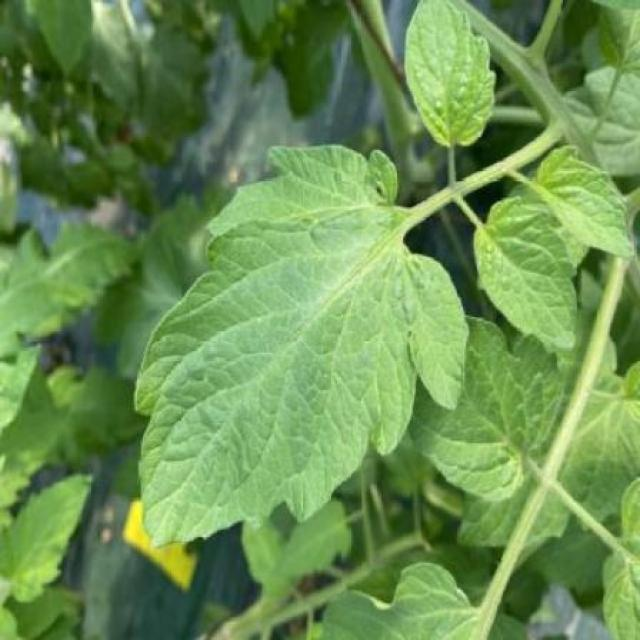Healthy: (134, 145, 469, 549), (474, 195, 577, 348), (405, 0, 498, 146)
